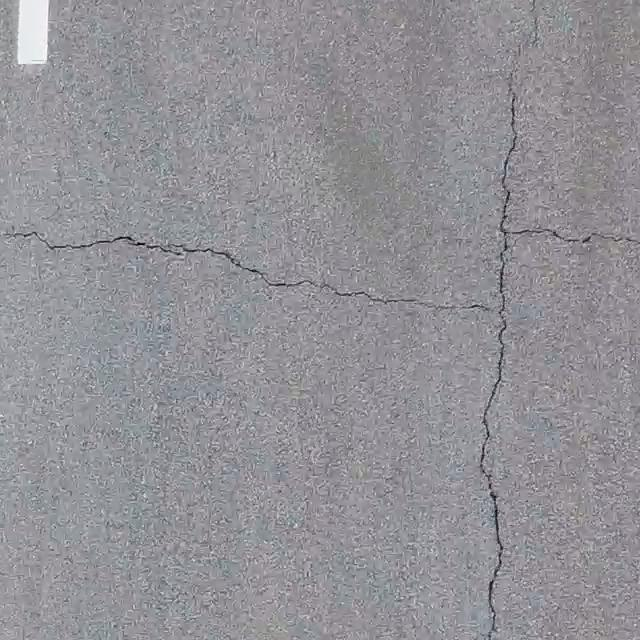GRIETA: (0, 229, 490, 310), (479, 76, 517, 639), (506, 228, 639, 246), (529, 0, 537, 45), (271, 288, 271, 288)
